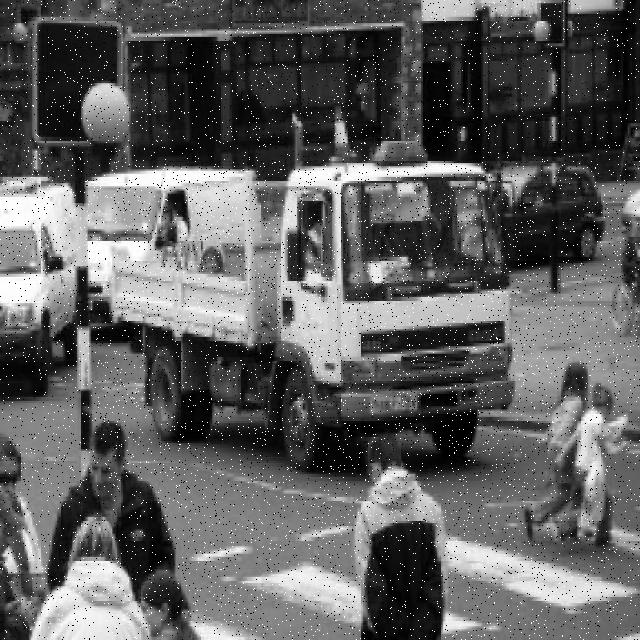Truck- 2-Axle: (113, 163, 516, 472)
